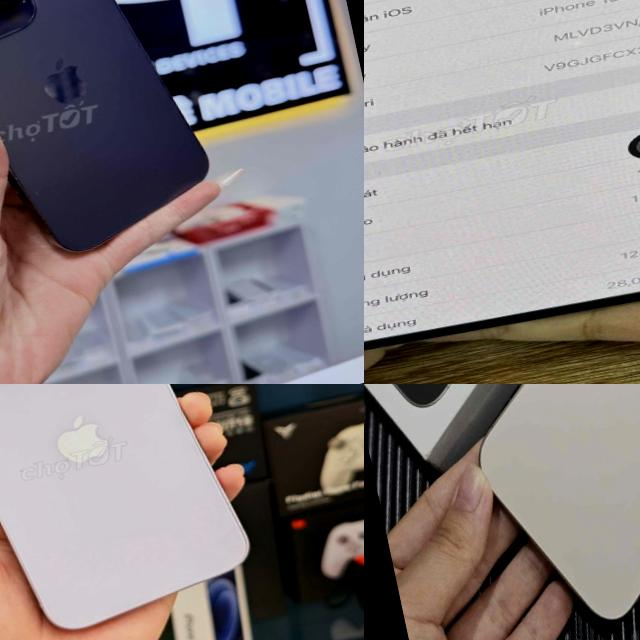gen_12_13: (364, 0, 640, 382)
gen_14: (0, 384, 269, 640), (0, 0, 229, 283)
gen_16: (425, 384, 640, 640)
